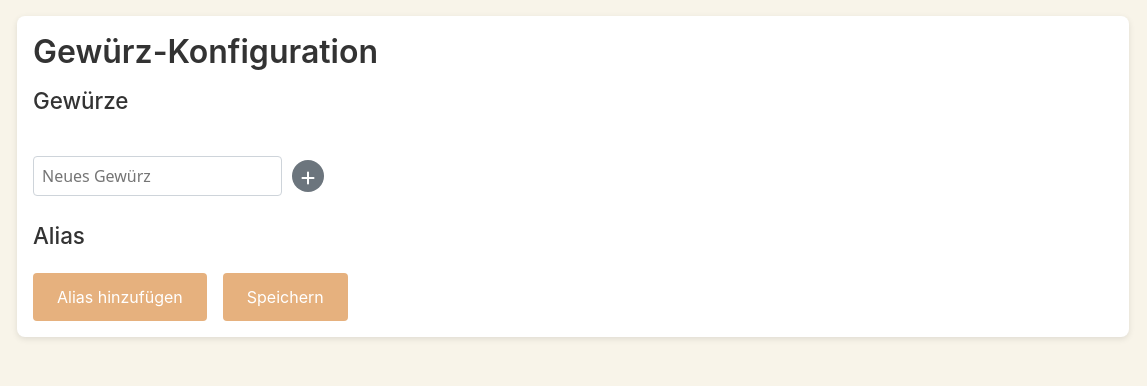
Test: SpiceRulesConfig › adds a new spice via input + add button
expect the text "Gewürz-Konfiguration" is shown: met, box [33,32,378,71]
In the field with placeholder "Neues Gewürz": (158, 176) [33,156,282,196], type "Kümmel"
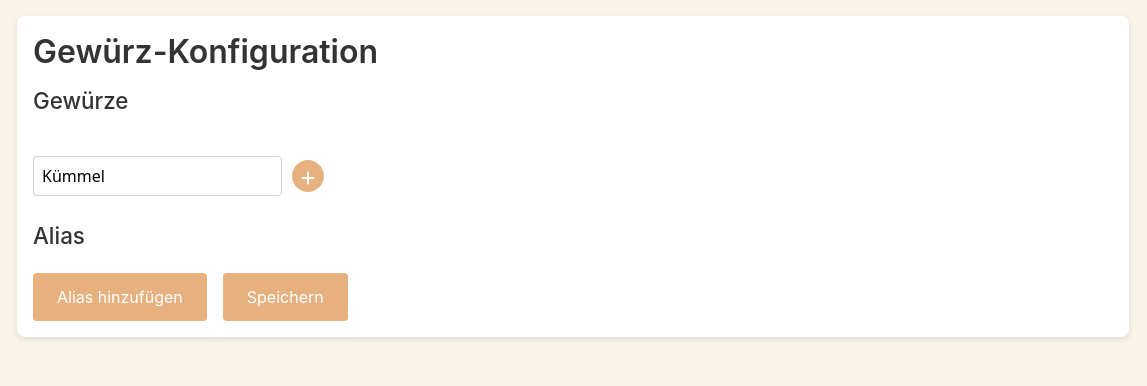
// add button is the first button (icon-only)
Click the 1st button: (308, 176) [292,160,324,192]
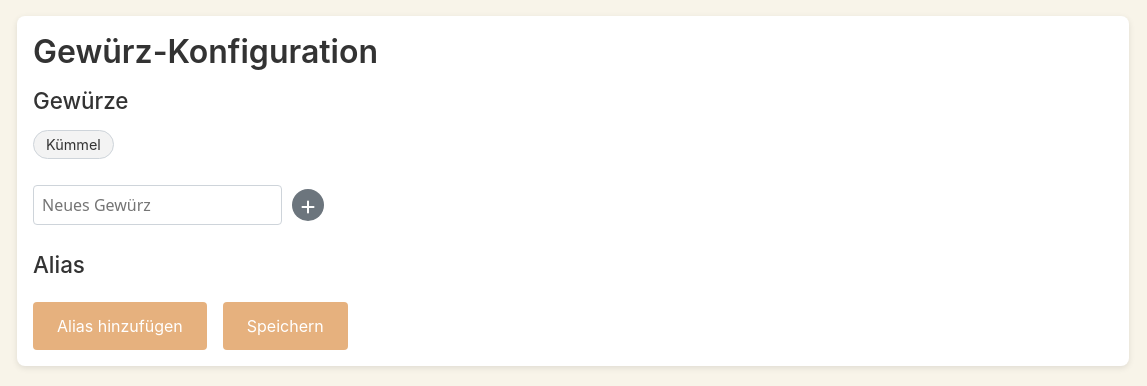
expect the text "Kümmel" is shown: met, box [33,130,114,159]
